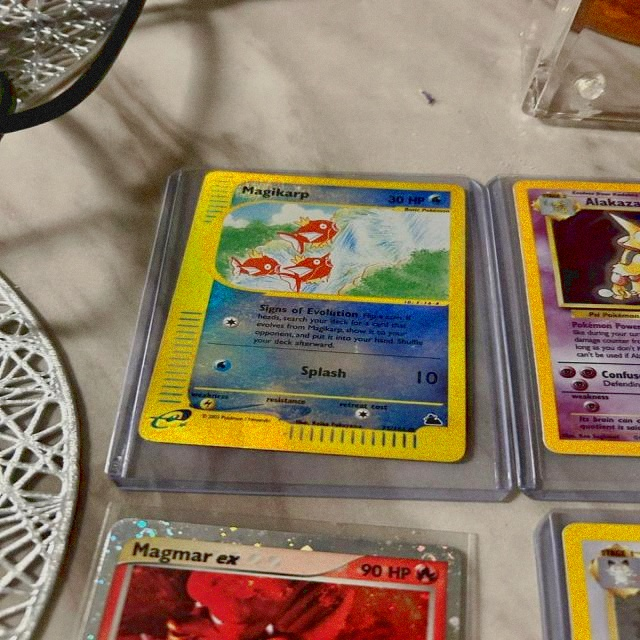card: (137, 169, 468, 465), (78, 515, 463, 640), (511, 179, 640, 459)
